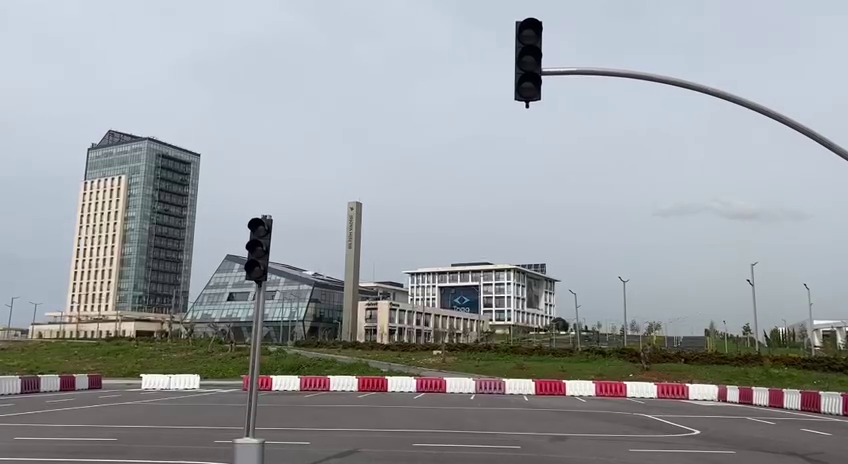trafficLight: (509, 14, 548, 111), (240, 211, 276, 284)
